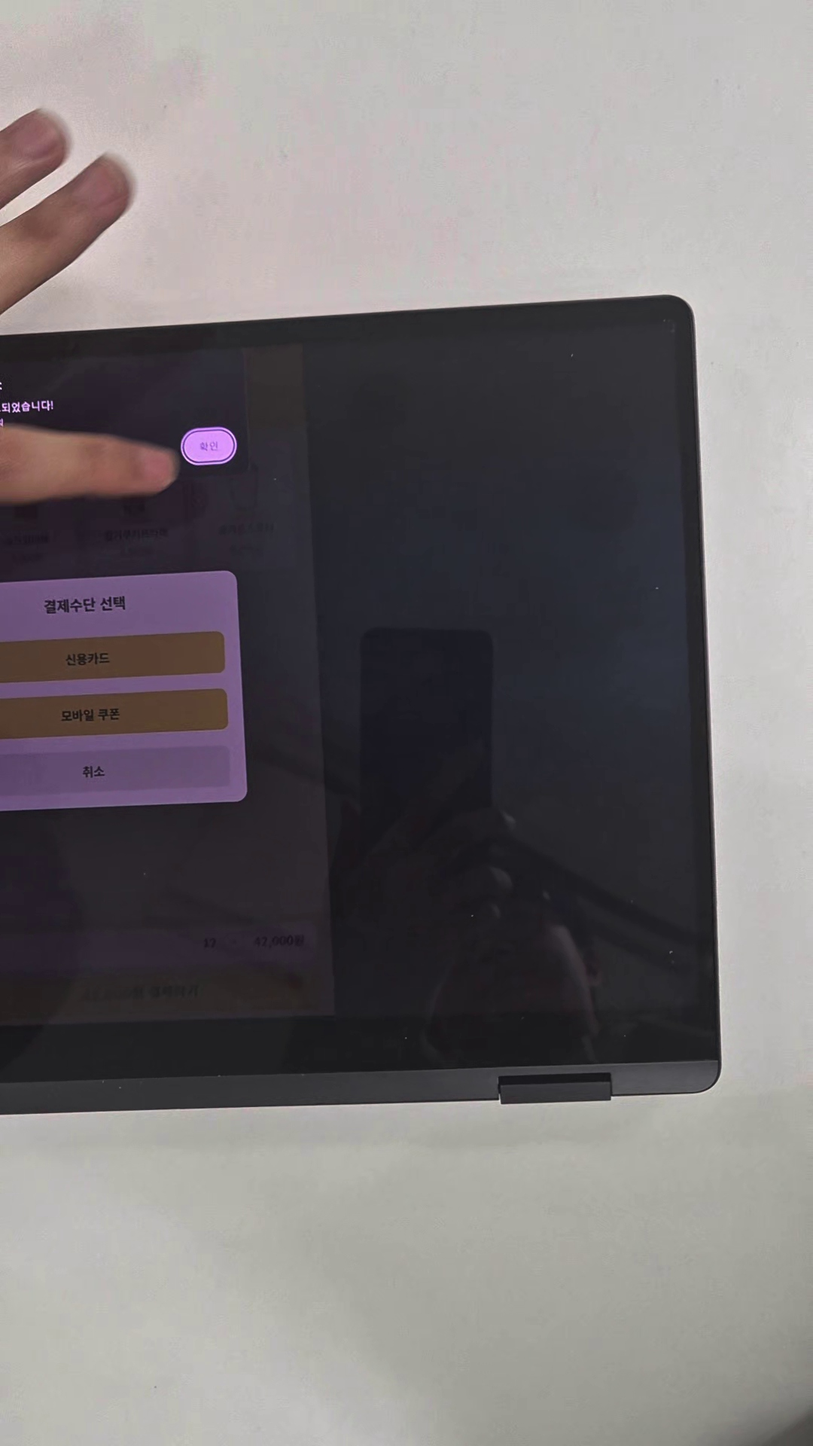option_button: (179, 426, 239, 467)
popup_modal: (243, 348, 250, 490)
